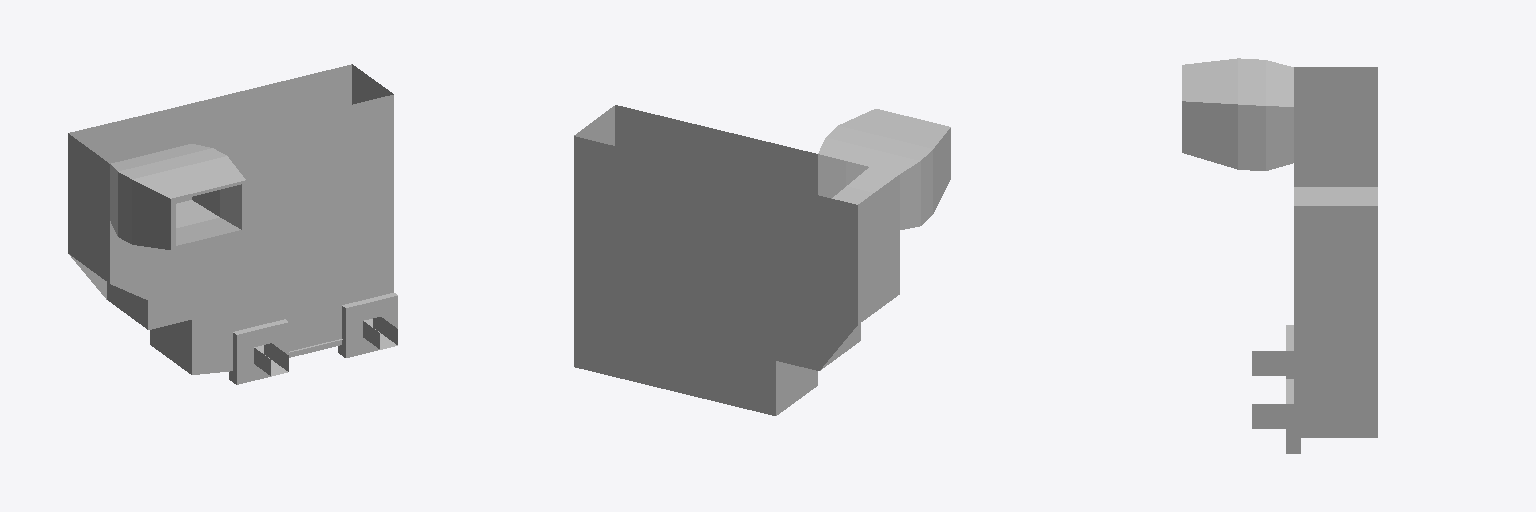
File: JSch_Level_1 Jump Room.obj
The picture shows the model from 3 angles: view 1: azimuth 30°, elevation 25°; view 2: azimuth 150°, elevation 25°; view 3: azimuth 270°, elevation 25°; orthographic projection.
Parts seen in each view (by area): view 1: Jump_Room_Cube.018; view 2: Jump_Room_Cube.018; view 3: Jump_Room_Cube.018.
Part boxes in pixels (left/top/right/bottom): Jump_Room_Cube.018: left=68, top=64, right=397, bottom=384; Jump_Room_Cube.018: left=574, top=105, right=950, bottom=415; Jump_Room_Cube.018: left=1182, top=58, right=1377, bottom=453.
Size of the model in its own units: 10.94 by 9.15 by 6.38.